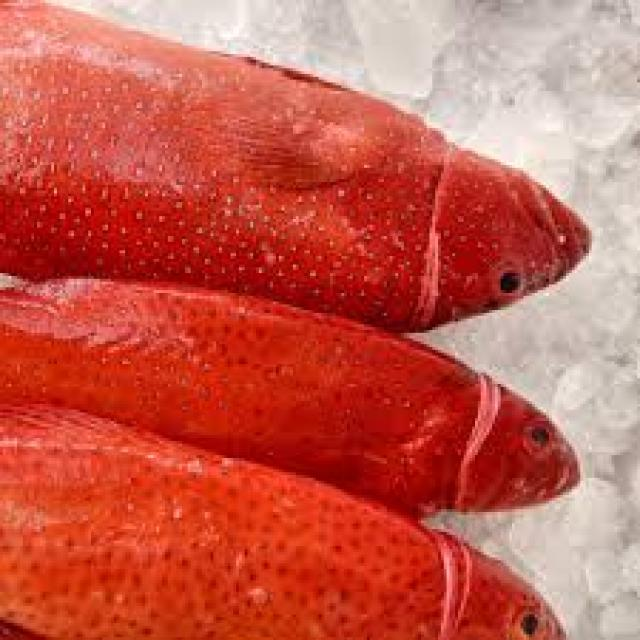Plectropomus-leopardus: (0, 0, 612, 333), (0, 264, 612, 518), (0, 455, 606, 640)
